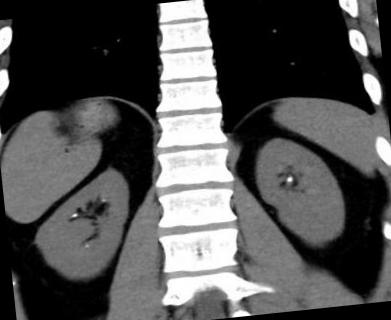Tas_Var: (284, 174, 294, 185), (81, 242, 90, 250), (99, 197, 106, 204), (71, 212, 78, 218)
